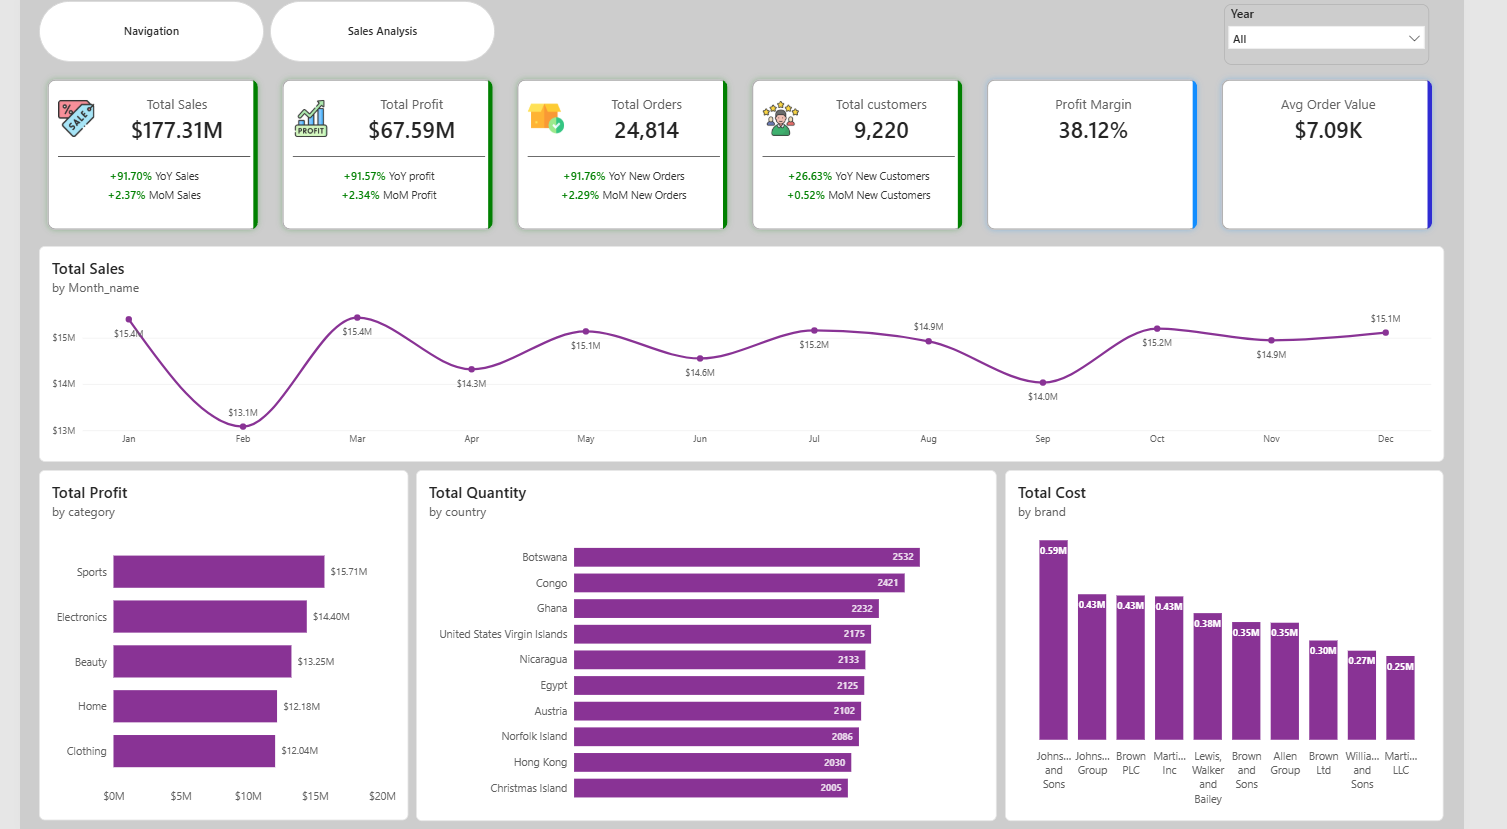

The page's visual inventory and layout, read from the dashboard file:
{"tool":"powerbi","page":{"name":"Executive Dashboard","canvas":[1900,1100],"ordinal":1},"visuals":[{"type":"cardVisual","fields":{"Data":["Calculations.Total Sales","Calculations.Total Profit","Calculations.New Total Orders","Calculations.New Total customers","Calculations.Profit Margin %","Calculations.Avg Order Value"]},"box":[24.4,100.2,1849.1,220.8],"z":0},{"type":"lineChart","fields":{"Category":["Date Table.Month_name"],"Y":["Calculations.Total Sales"]},"box":[24.4,330.5,1849.1,284.5],"z":1000},{"type":"clusteredBarChart","fields":{"Category":["vw_products.category"],"Y":["Calculations.Total Profit"]},"box":[24.4,624.5,486.3,460.6],"z":2000},{"type":"barChart","fields":{"Category":["vw_customers.country"],"Y":["Calculations.Total Quantity"]},"box":[521.6,624.5,764,461.9],"z":3000},{"type":"columnChart","fields":{"Category":["vw_products.brand"],"Y":["Calculations.Total Cost"]},"box":[1296.4,624.5,577.1,461.9],"z":4000},{"type":"slicer","fields":{"Values":["Date Table.Year"]},"box":[1584.3,11.4,270,80],"z":5000},{"type":"pageNavigator","box":[24.6,8.2,600,80],"z":6000}]}

Visuals, with their boxes on the page's 1900x1100 design canvas (x1, y1, x2, y2). These are canvas units, not pixel positions in the 1507x829 screenshot, which may show the page scaled, cropped or inside an application window:
cardVisual - Calculations.Total Sales x Calculations.Total Profit: box=[24, 100, 1874, 321]
lineChart - Date Table.Month_name x Calculations.Total Sales: box=[24, 330, 1874, 615]
clusteredBarChart - vw_products.category x Calculations.Total Profit: box=[24, 624, 511, 1085]
barChart - vw_customers.country x Calculations.Total Quantity: box=[522, 624, 1286, 1086]
columnChart - vw_products.brand x Calculations.Total Cost: box=[1296, 624, 1874, 1086]
slicer - Date Table.Year: box=[1584, 11, 1854, 91]
pageNavigator: box=[25, 8, 625, 88]
